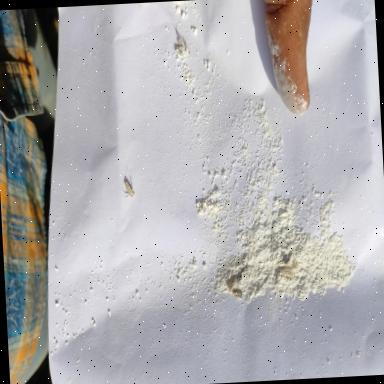pbw: (174, 44, 190, 59), (278, 264, 294, 278), (236, 266, 248, 284), (123, 181, 135, 198), (226, 276, 238, 292), (176, 31, 184, 46), (232, 288, 242, 299), (292, 258, 298, 270)
